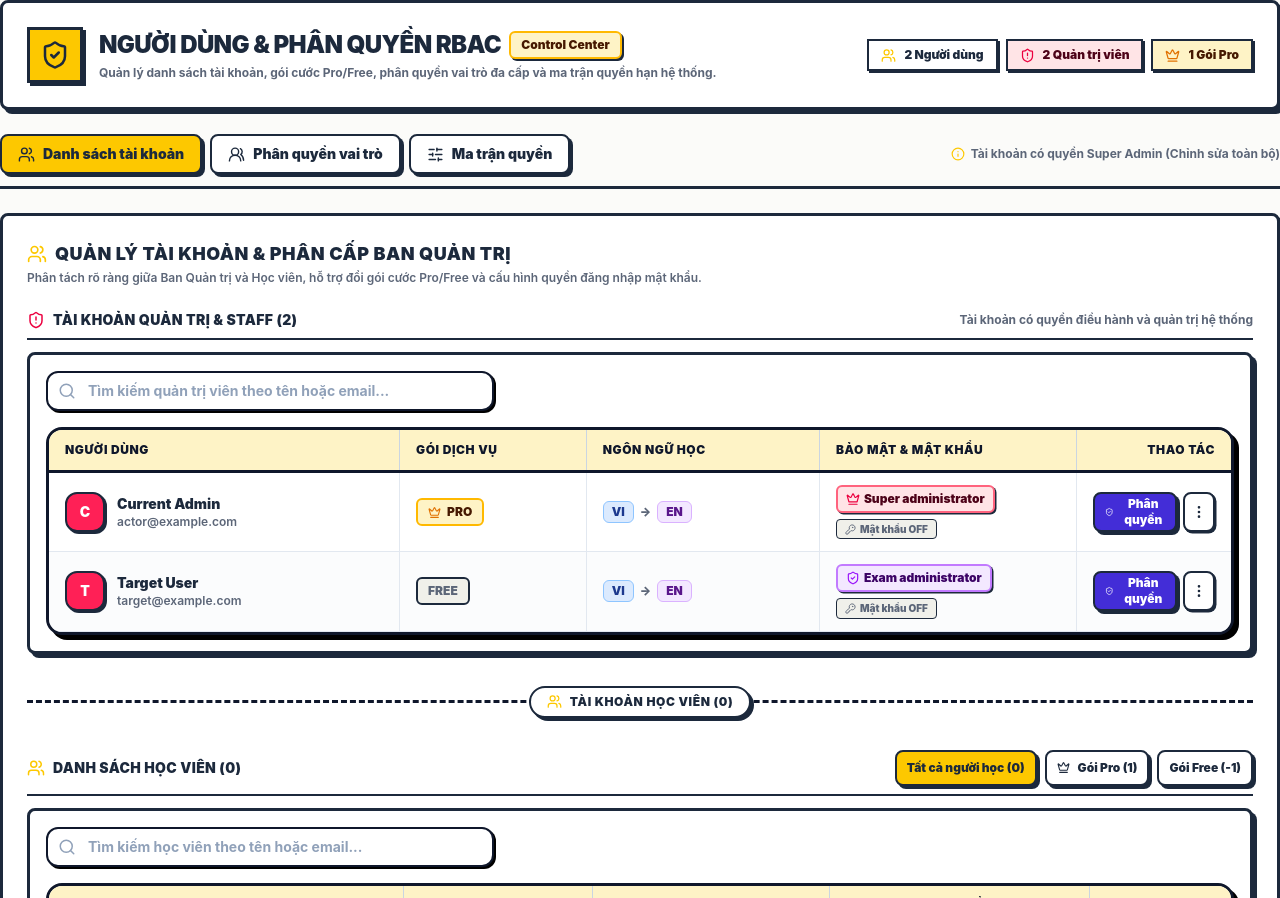
AdminRolesPage › shows role badges in Tab 2 and opens visual assignment dialog
Click the button "Phân quyền vai trò" at (306, 154), box [210, 134, 401, 174]
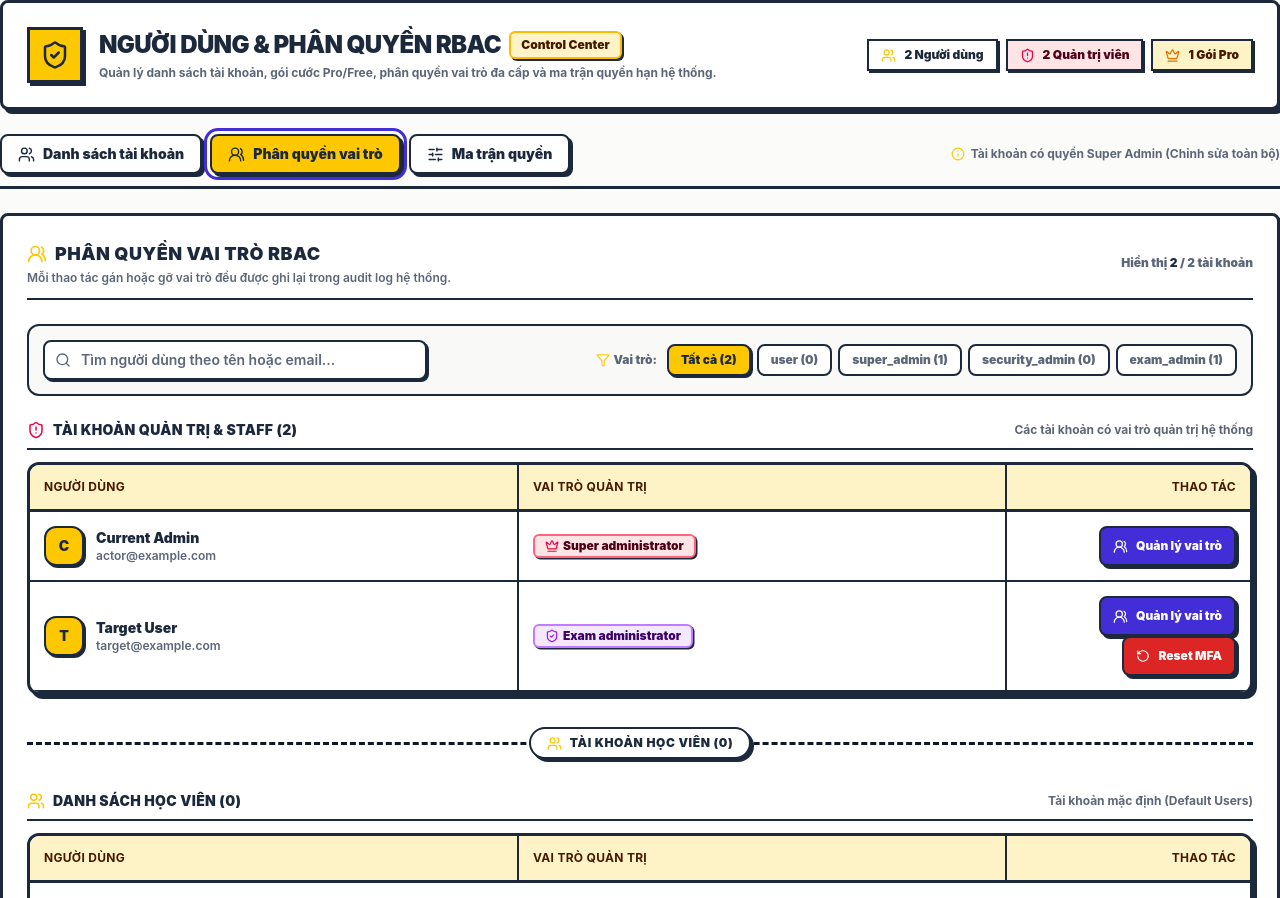
Check: the text "Exam administrator" is shown, box [533, 624, 693, 648]
Click the button with aria-label "quản lý vai trò target user" at (1168, 616), box [1099, 596, 1236, 636]
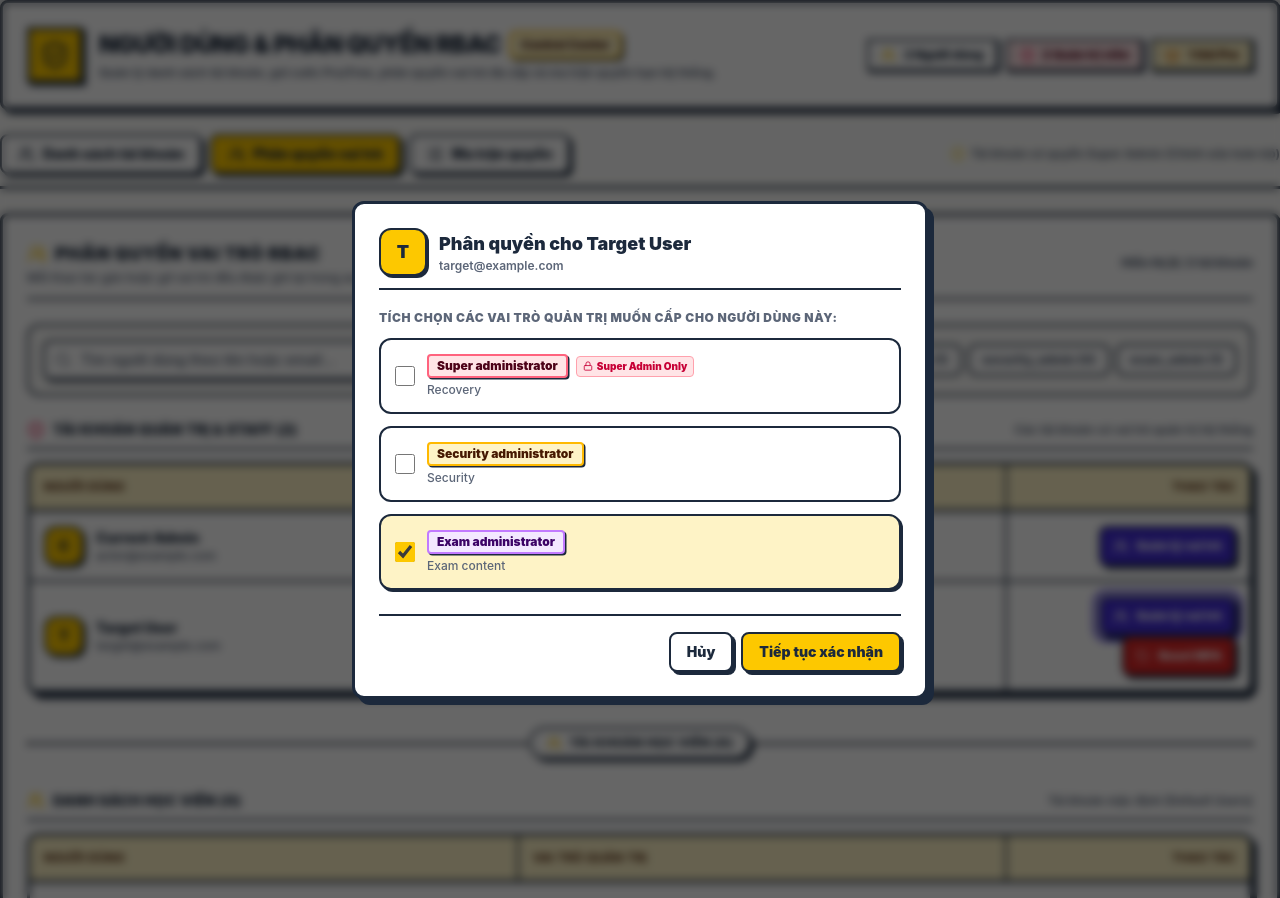
Check: the checkbox labelled "Security administrator Security" is shown, box [395, 454, 415, 474]
